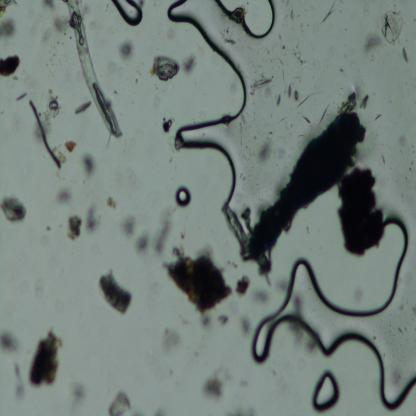Air bubble: (248, 214, 416, 412), (166, 0, 248, 206), (215, 0, 279, 41), (312, 368, 341, 412), (112, 0, 143, 27), (176, 186, 192, 205)
Background material: (165, 242, 233, 312), (339, 168, 387, 254), (224, 205, 272, 276), (27, 98, 65, 171), (32, 328, 63, 389), (95, 269, 135, 314), (332, 82, 372, 117), (154, 216, 175, 258), (152, 53, 182, 82), (0, 193, 28, 223), (380, 10, 402, 46), (158, 325, 182, 354), (107, 389, 132, 416), (202, 374, 227, 400), (12, 358, 27, 401), (0, 54, 22, 77), (0, 329, 20, 354), (288, 322, 304, 350), (67, 213, 82, 242), (82, 151, 98, 178), (87, 206, 102, 234), (0, 17, 16, 43), (233, 275, 251, 296), (292, 293, 306, 319), (122, 214, 137, 238), (55, 188, 76, 205), (322, 0, 336, 25), (257, 141, 272, 164), (250, 286, 269, 304), (136, 231, 150, 255), (118, 40, 134, 61), (0, 0, 19, 17), (366, 30, 380, 53), (54, 16, 69, 34), (184, 54, 196, 76), (161, 115, 174, 135), (230, 8, 245, 23), (75, 101, 92, 114), (64, 139, 77, 155), (241, 316, 250, 338), (106, 195, 118, 210), (217, 312, 228, 326), (201, 314, 211, 329), (16, 92, 30, 102), (43, 0, 55, 11), (302, 114, 312, 125), (225, 38, 236, 46), (294, 90, 300, 101)
Cellulose filter fibre: (66, 1, 124, 139)
Diatom: (250, 79, 273, 90), (401, 47, 409, 65), (276, 92, 282, 108), (287, 85, 293, 100)
Fragment: (251, 111, 366, 257)
